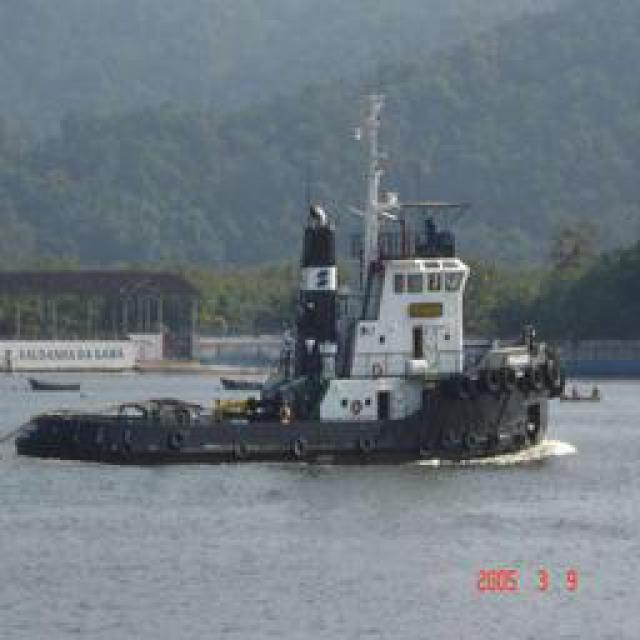Ship: (40, 77, 570, 475)
